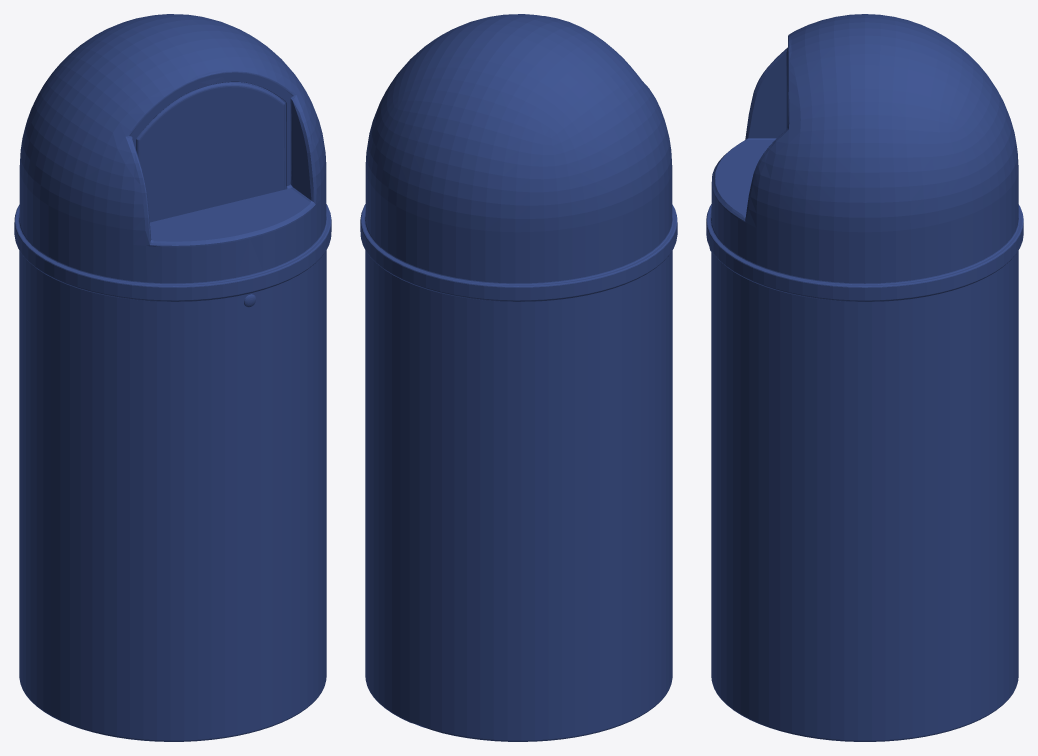
Rendered from pod.glb.
3 views of the same model, side by side, from view 1: azimuth 30°, elevation 25°; view 2: azimuth 150°, elevation 25°; view 3: azimuth 270°, elevation 25° (orthographic).
Parts seen in each view (by area): view 1: normalized; view 2: normalized; view 3: normalized.
Boxes of the visible parts, bbox=[...] form: normalized: bbox=[14, 14, 331, 741]; normalized: bbox=[360, 14, 677, 741]; normalized: bbox=[706, 14, 1023, 741].
Bounding box in the file's own units: 0.4429 × 1 × 0.443.
